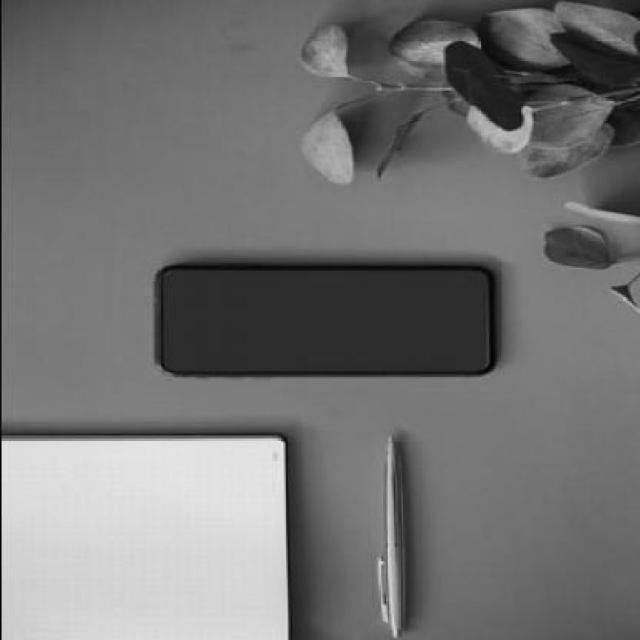fake: (154, 266, 490, 377)
